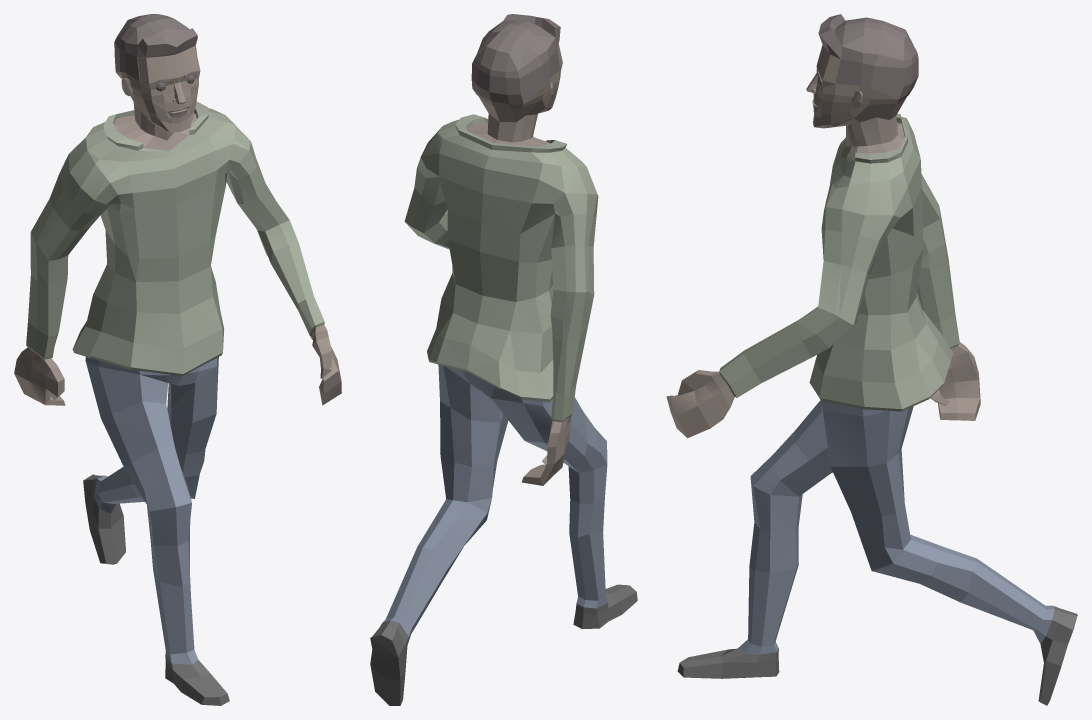
File: walk_10.glb
3 renders of one model, left to right at view 1: azimuth 30°, elevation 25°; view 2: azimuth 150°, elevation 25°; view 3: azimuth 270°, elevation 25°, orthographic. The views are drawn at different scales.
Parts seen in each view (by area): view 1: BaseHuman_baked; view 2: BaseHuman_baked; view 3: BaseHuman_baked.
Boxes of the visible parts, bbox=[...] form: BaseHuman_baked: bbox=[14, 14, 341, 705]; BaseHuman_baked: bbox=[370, 14, 637, 705]; BaseHuman_baked: bbox=[666, 14, 1077, 705].
Size of the model in its own units: 1.63 by 4.56 by 2.57.
